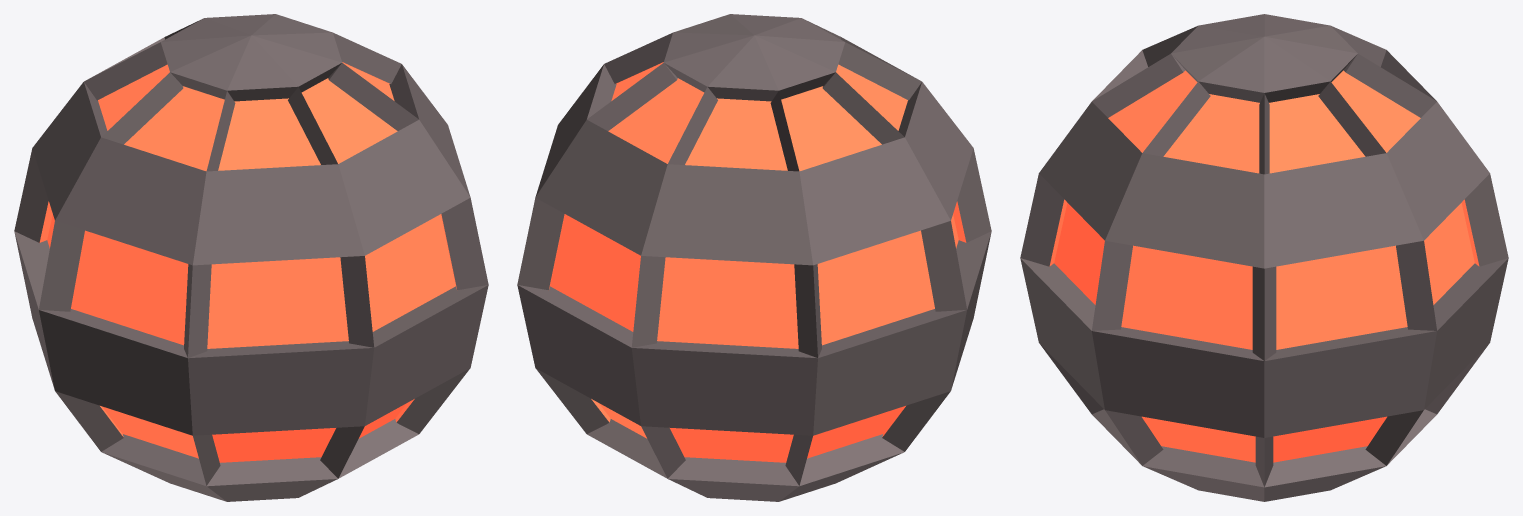
File: grenade.glb
3 views of the same model, side by side, from view 1: azimuth 30°, elevation 25°; view 2: azimuth 150°, elevation 25°; view 3: azimuth 270°, elevation 25° (orthographic).
Visible parts, largest first — view 1: Sphere; view 2: Sphere; view 3: Sphere.
Boxes of the visible parts, x1=… form: Sphere: x1=14, y1=14, x2=488, y2=501; Sphere: x1=517, y1=14, x2=991, y2=501; Sphere: x1=1020, y1=14, x2=1508, y2=501.
Bounding box in the file's own units: 1 × 1 × 1.
1 material, 1 textured.
